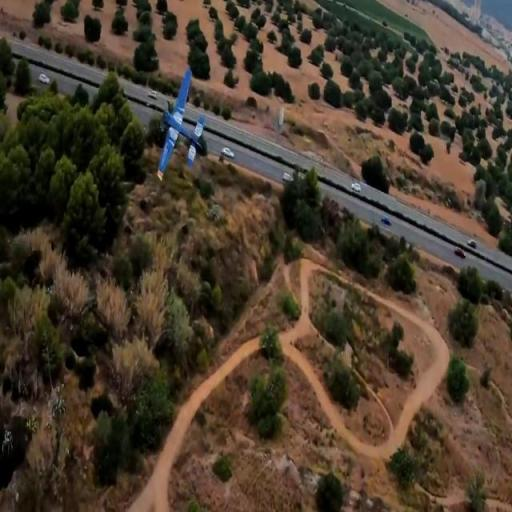uav: (157, 68, 204, 178)
